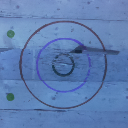Axe Tip: (70, 51, 79, 53)
